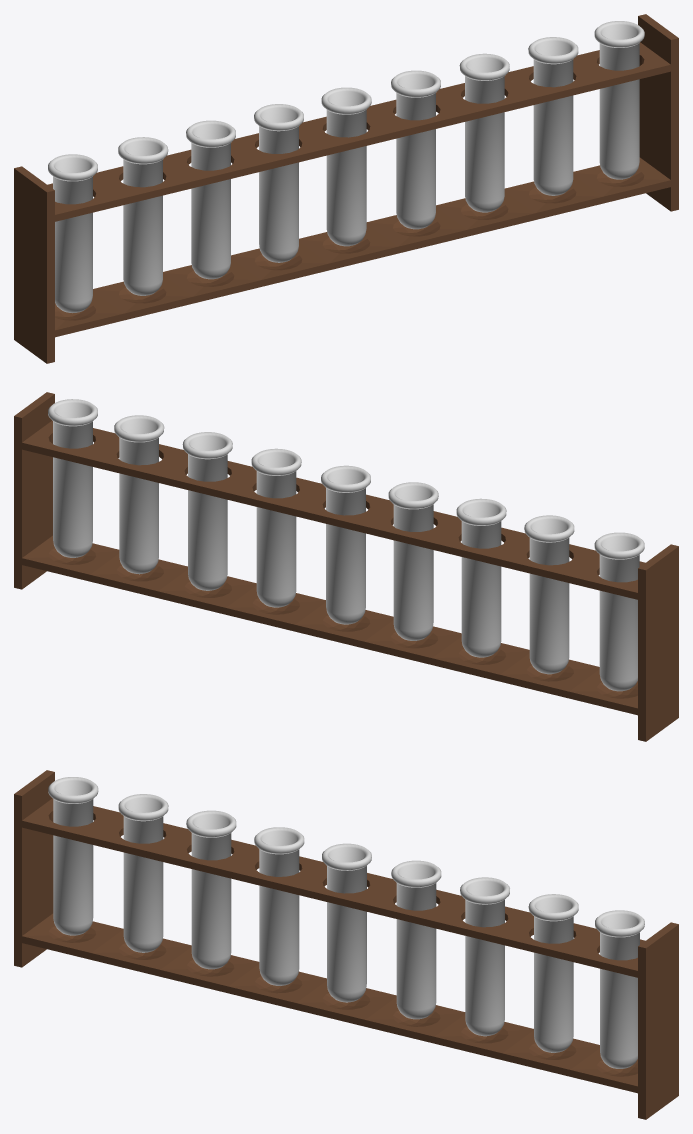
File: Stand.fbx
3 renders of one model, top to bottom at view 1: azimuth 30°, elevation 25°; view 2: azimuth 150°, elevation 25°; view 3: azimuth 330°, elevation 25°, orthographic.
Visible parts, largest first — view 1: Cube.002, Flask Cylinder.001, Flask Cylinder.008, Flask Cylinder.007, Flask Cylinder.010, Flask Cylinder.006, Flask Cylinder.011, Flask Cylinder.009, Flask Cylinder.002, Flask Cylinder.012; view 2: Cube.002, Flask Cylinder.011, Flask Cylinder.010, Flask Cylinder.009, Flask Cylinder.002, Flask Cylinder.008, Flask Cylinder.001, Flask Cylinder.006, Flask Cylinder.007, Flask Cylinder.012; view 3: Cube.002, Flask Cylinder.002, Flask Cylinder.010, Flask Cylinder.009, Flask Cylinder.011, Flask Cylinder.012, Flask Cylinder.001, Flask Cylinder.006, Flask Cylinder.008, Flask Cylinder.007.
Boxes of the visible parts, left/top/right/bottom form: Cube.002: left=14, top=14, right=678, bottom=363; Flask Cylinder.001: left=321, top=87, right=371, bottom=246; Flask Cylinder.008: left=528, top=37, right=578, bottom=195; Flask Cylinder.007: left=594, top=21, right=644, bottom=179; Flask Cylinder.010: left=186, top=120, right=235, bottom=279; Flask Cylinder.006: left=459, top=53, right=509, bottom=212; Flask Cylinder.011: left=118, top=137, right=168, bottom=295; Flask Cylinder.009: left=254, top=104, right=303, bottom=262; Flask Cylinder.002: left=391, top=70, right=440, bottom=229; Flask Cylinder.012: left=48, top=154, right=97, bottom=312; Cube.002: left=14, top=392, right=678, bottom=741; Flask Cylinder.011: left=524, top=515, right=574, bottom=674; Flask Cylinder.010: left=456, top=498, right=506, bottom=657; Flask Cylinder.009: left=388, top=482, right=438, bottom=640; Flask Cylinder.002: left=251, top=448, right=301, bottom=607; Flask Cylinder.008: left=114, top=415, right=164, bottom=574; Flask Cylinder.001: left=321, top=465, right=370, bottom=624; Flask Cylinder.006: left=182, top=432, right=232, bottom=590; Flask Cylinder.007: left=48, top=399, right=97, bottom=557; Flask Cylinder.012: left=594, top=532, right=644, bottom=691; Cube.002: left=14, top=770, right=678, bottom=1119; Flask Cylinder.002: left=391, top=860, right=441, bottom=1019; Flask Cylinder.010: left=186, top=810, right=236, bottom=969; Flask Cylinder.009: left=254, top=827, right=304, bottom=985; Flask Cylinder.011: left=118, top=794, right=168, bottom=952; Flask Cylinder.012: left=48, top=777, right=98, bottom=935; Flask Cylinder.001: left=322, top=843, right=371, bottom=1002; Flask Cylinder.006: left=460, top=877, right=509, bottom=1036; Flask Cylinder.008: left=528, top=894, right=578, bottom=1052; Flask Cylinder.007: left=595, top=910, right=644, bottom=1068.
Size of the model in its own units: 595 by 160 by 53.68.
